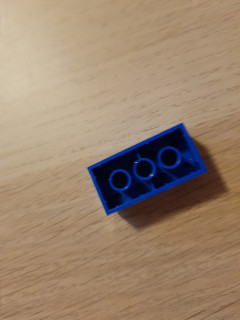2x4 blue: (80, 121, 209, 218)
